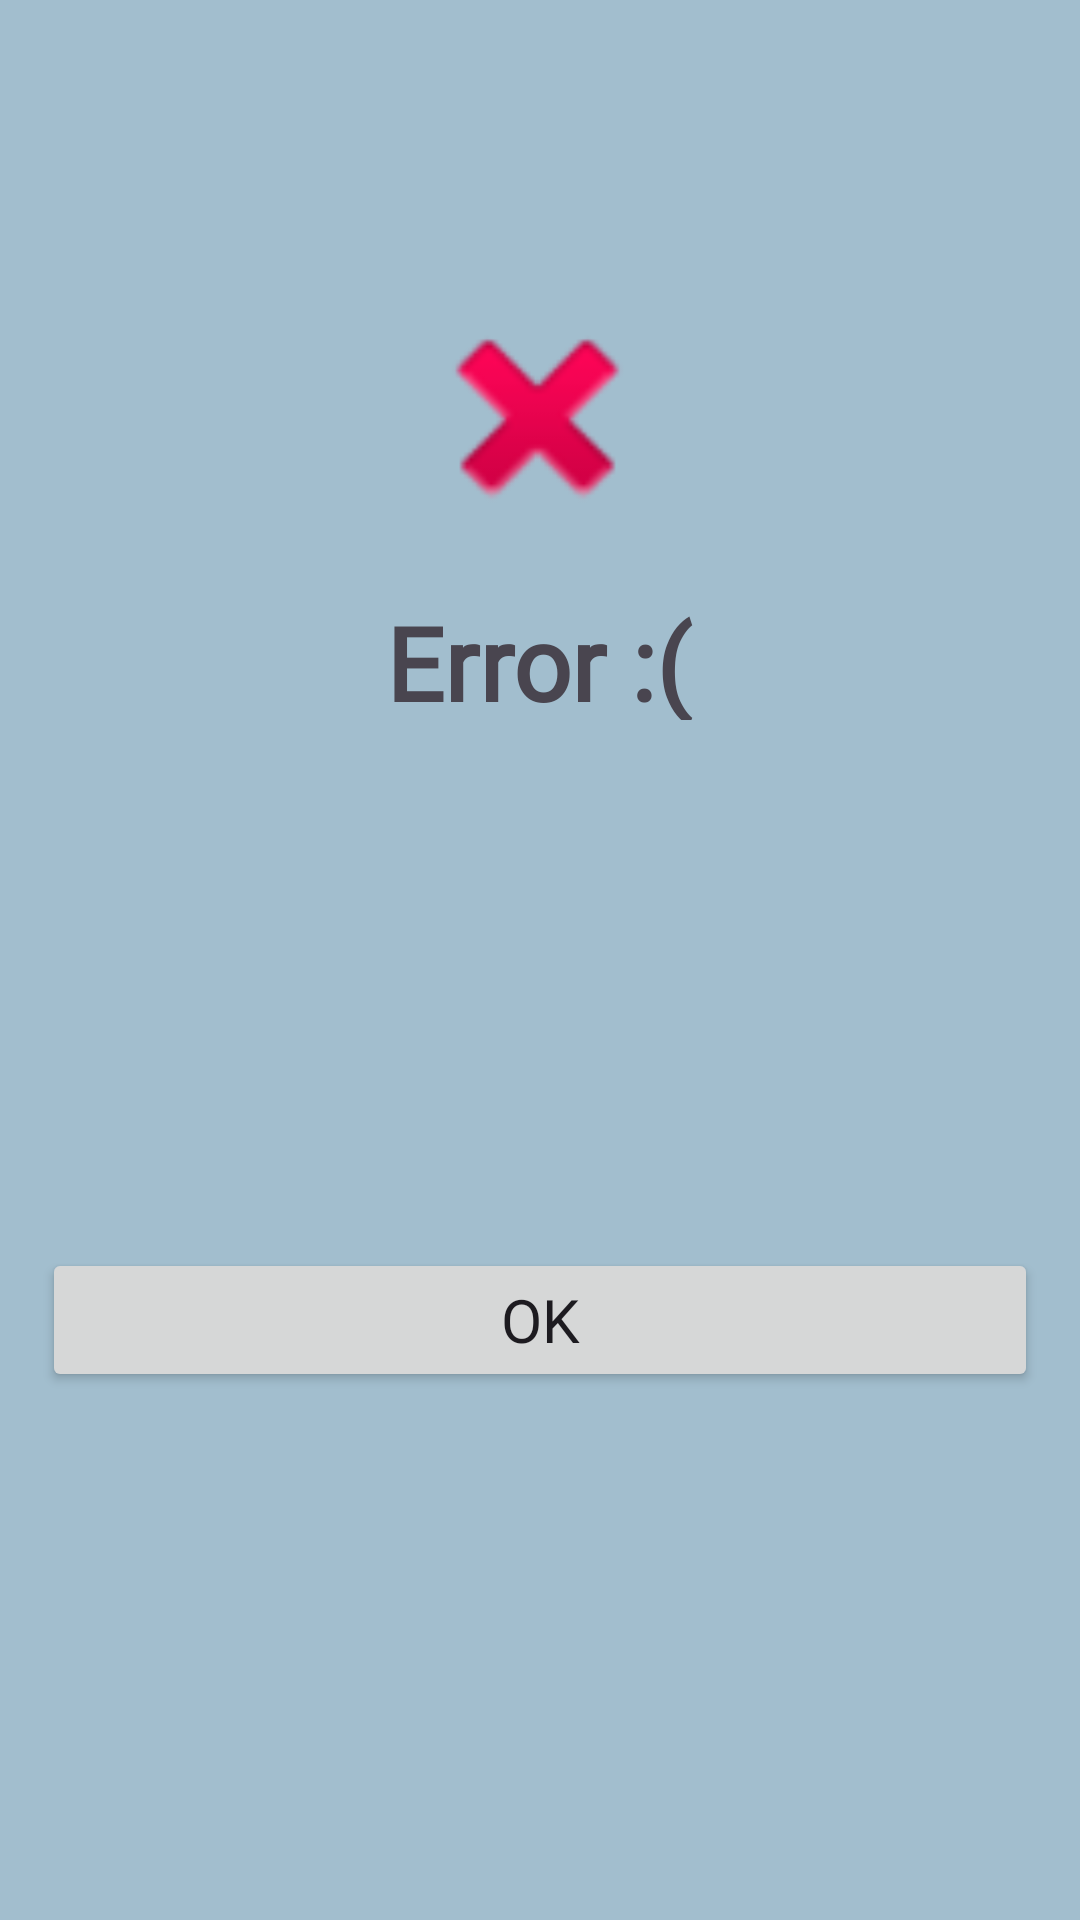

Icon bounding boxes for this 1080 x 1920 phone screenshot, format (x1, y1, x2, y2):
delete: (456, 339, 619, 496)
